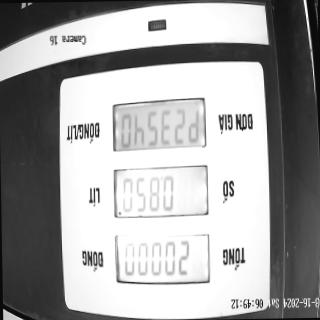screen: (110, 94, 210, 292)
